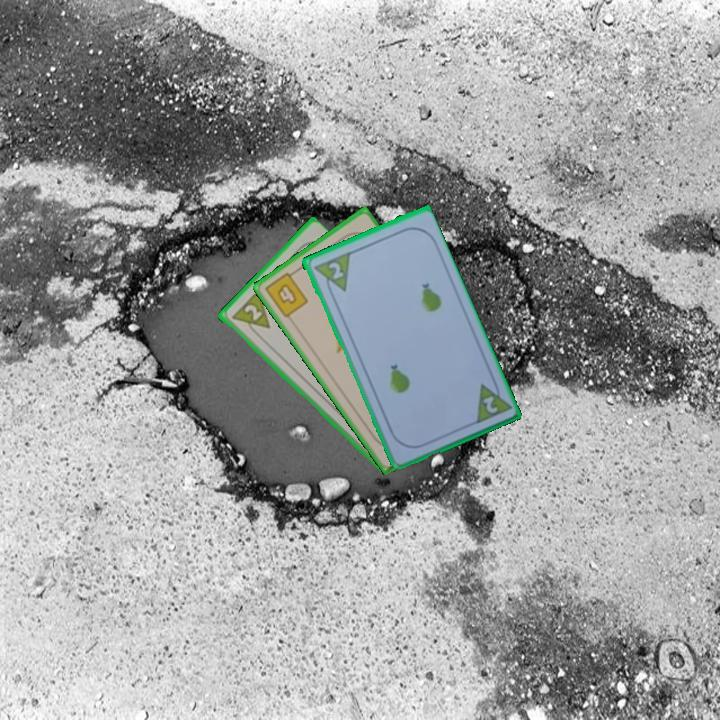2p: (227, 287, 273, 341), (470, 375, 513, 427), (324, 258, 346, 282)
4b: (261, 266, 311, 321)
